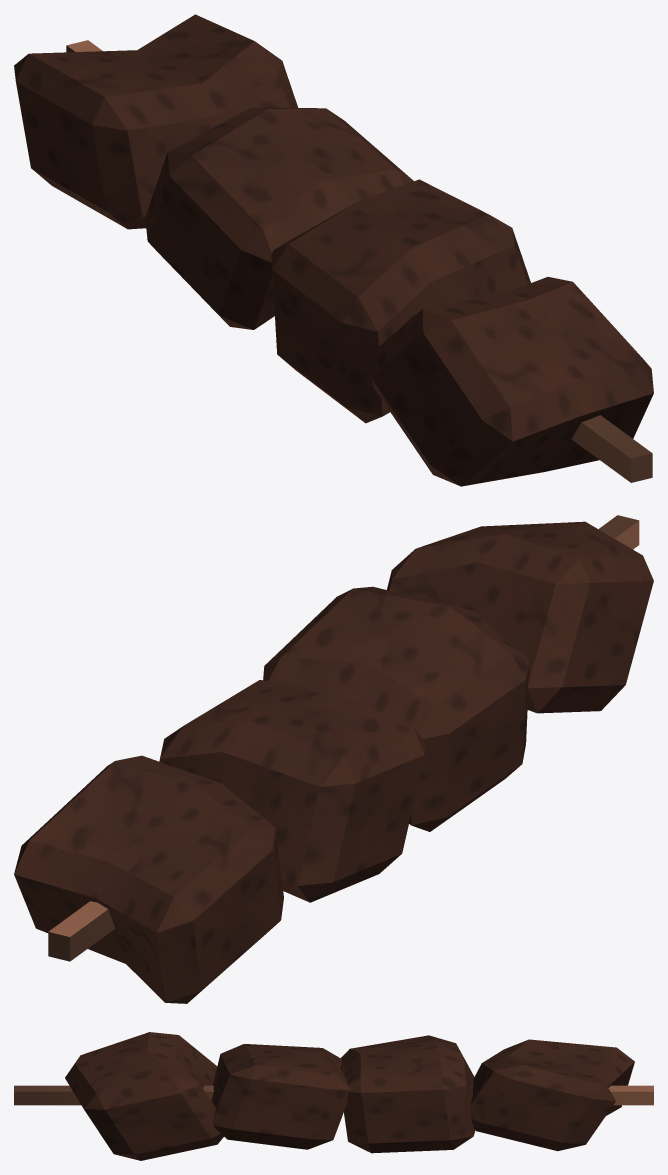
File: DoubleCooked_BrochetteBurned.fbx
The picture shows the model from 3 angles, top to bottom: view 1: azimuth 30°, elevation 25°; view 2: azimuth 150°, elevation 25°; view 3: azimuth 270°, elevation 25°; orthographic projection. The views are drawn at different scales.
Parts seen in each view (by area): view 1: DoubleCooked_BrochetteBurned; view 2: DoubleCooked_BrochetteBurned; view 3: DoubleCooked_BrochetteBurned.
Boxes of the visible parts, bbox=[...] form: DoubleCooked_BrochetteBurned: bbox=[14, 14, 653, 486]; DoubleCooked_BrochetteBurned: bbox=[14, 515, 653, 1003]; DoubleCooked_BrochetteBurned: bbox=[14, 1032, 653, 1160].
Size of the model in its own units: 3.77 by 3.01 by 18.38.
1 material, 1 textured.
